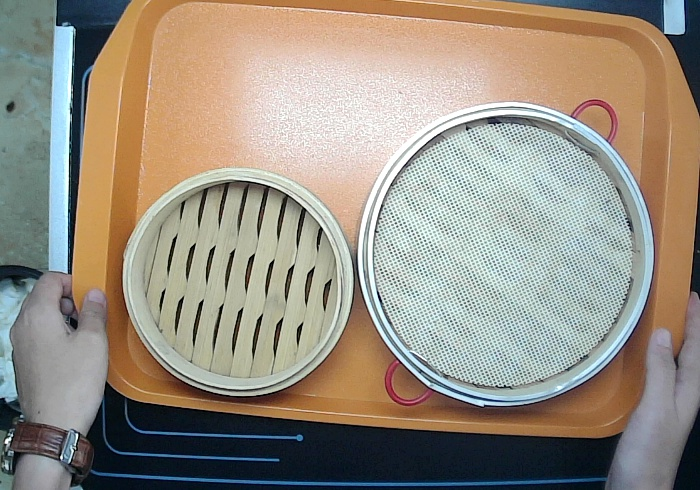ZNLD-Da_Zheng_Long: (352, 91, 656, 410)
ZNLD-Xiao_Zheng_Long: (120, 166, 356, 400)
